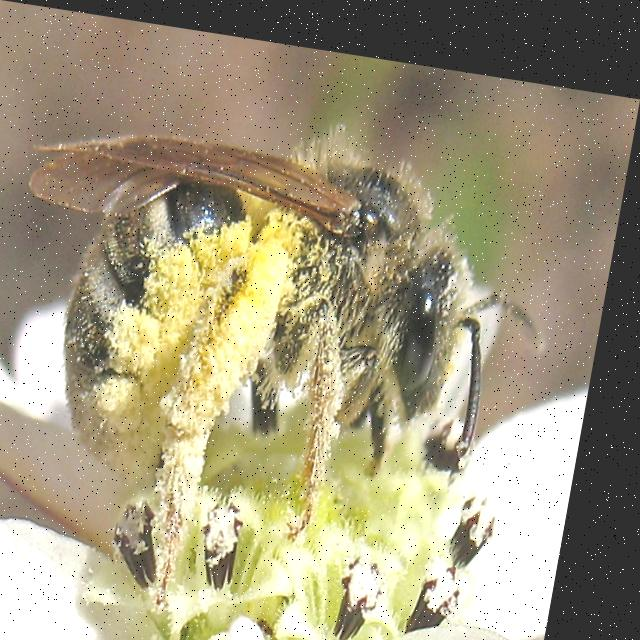Lasioglossum: (0, 97, 575, 556)
